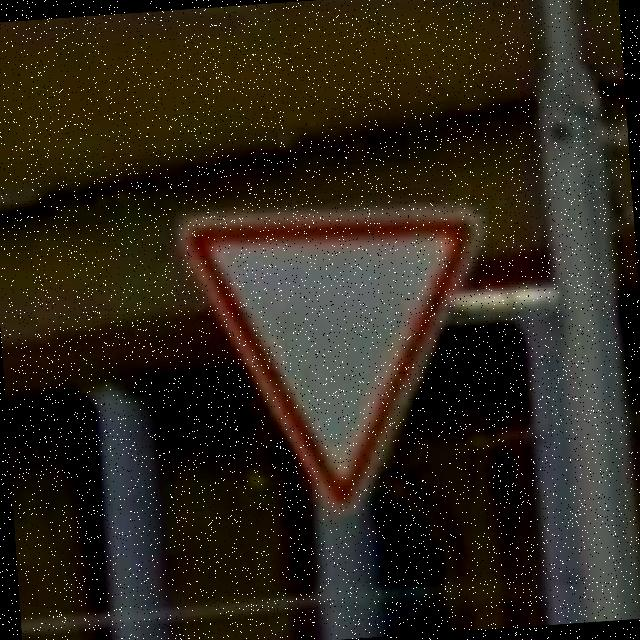Ustap pierwszenstwa: (171, 192, 506, 530)
